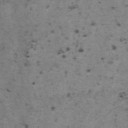oxide scale of temperature system: (24, 4, 128, 98), (20, 106, 33, 128), (118, 92, 126, 98), (50, 106, 56, 110), (6, 88, 11, 92)
